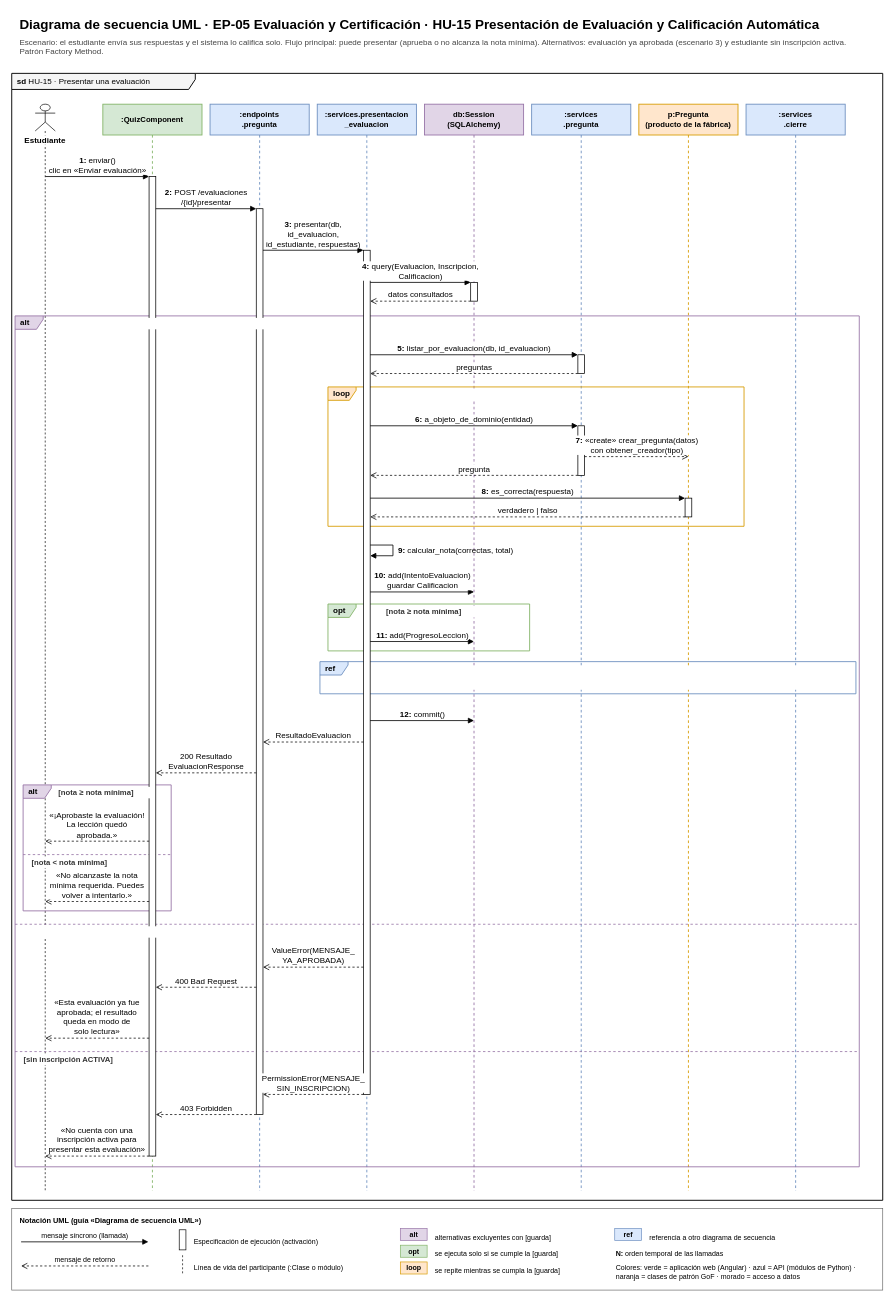
This 895x1302 diagram has some shape labels left out. Here are the shapes that lost their labels. From the top down, the centre of each, then its label:
At point (188, 323): "[puede presentar: inscripción ACTIVA y evaluación sin aprobar]".
At point (466, 394): "[por cada pregunta de la evaluación]".
At point (613, 677): "SD-6 · HU-16 Cierre académico: evaluar_cierre(db, inscripcion)".
At point (99, 931): "[la evaluación ya estaba aprobada]".
